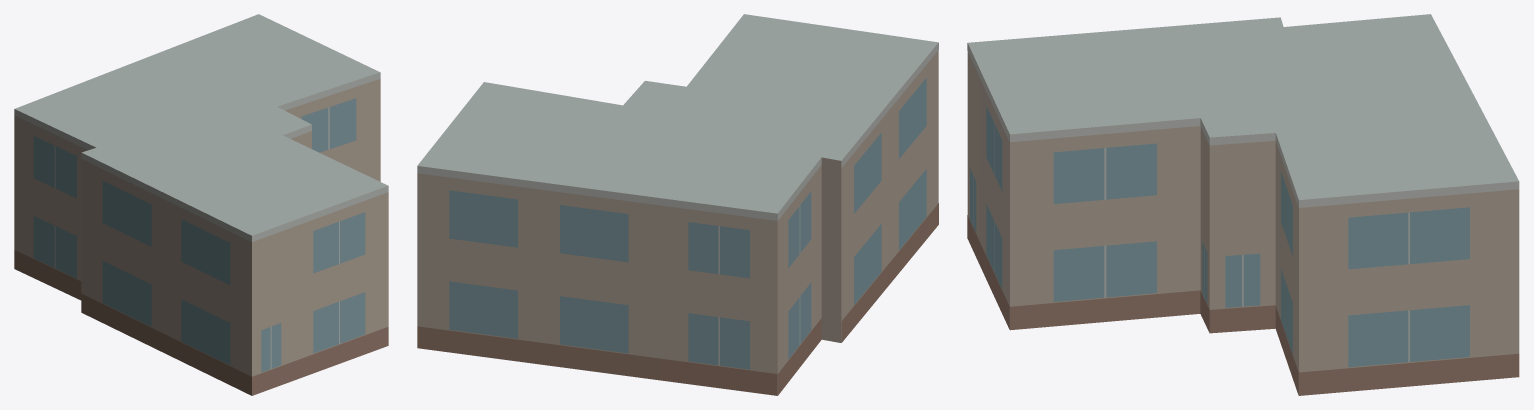
File: survey-upis-32500555.glb
3 renders of one model, left to right at view 1: azimuth 30°, elevation 25°; view 2: azimuth 150°, elevation 25°; view 3: azimuth 270°, elevation 25°, orthographic. The views are drawn at different scales.
Visible parts, largest first — view 1: survey-upis-32500555.tmp; view 2: survey-upis-32500555.tmp; view 3: survey-upis-32500555.tmp.
Part boxes in pixels (left/top/right/bottom): survey-upis-32500555.tmp: left=14, top=14, right=388, bottom=395; survey-upis-32500555.tmp: left=417, top=14, right=938, bottom=395; survey-upis-32500555.tmp: left=967, top=14, right=1519, bottom=395.
Bounding box in the file's own units: 12.46 × 6.1 × 15.6.
